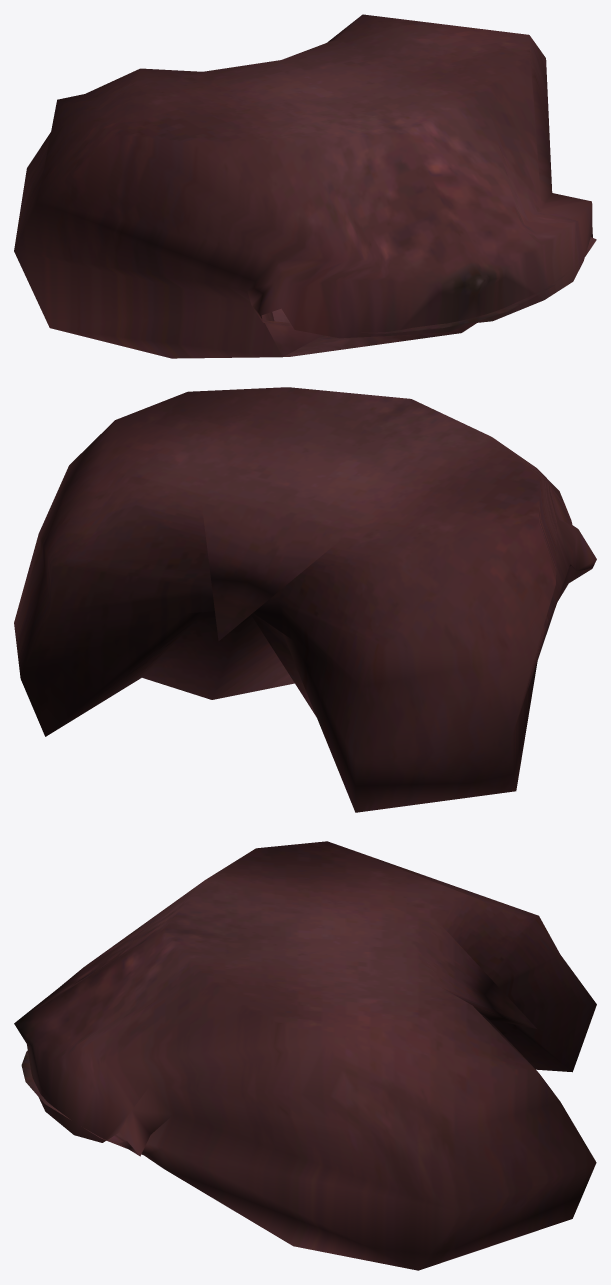
The model's file is InnerMouthShape.obj.
3 views of the same model, one above another, from view 1: azimuth 30°, elevation 25°; view 2: azimuth 150°, elevation 25°; view 3: azimuth 270°, elevation 25° (orthographic). The views are drawn at different scales.
Visible parts, largest first — view 1: InnerMouth Inner_Face_Parts Brad_Skin CharacterRoot; view 2: InnerMouth Inner_Face_Parts Brad_Skin CharacterRoot; view 3: InnerMouth Inner_Face_Parts Brad_Skin CharacterRoot.
Part boxes in pixels (box(x1,y1,x2,y2)): InnerMouth Inner_Face_Parts Brad_Skin CharacterRoot: box(14, 14, 596, 358); InnerMouth Inner_Face_Parts Brad_Skin CharacterRoot: box(14, 387, 596, 812); InnerMouth Inner_Face_Parts Brad_Skin CharacterRoot: box(14, 841, 596, 1270).
Bounding box in the file's own units: 7.5 × 3.5 × 7.87.
1 material, 1 textured.
